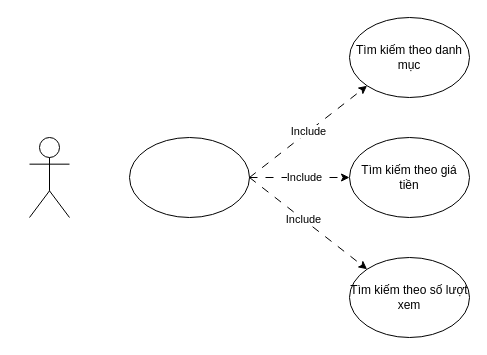
The diagram is 487 pixels wide and 355 high, and some of its shapes have lost their labels. The shapes that lost their labels are listed below. From the top down, each one's box as (x1, y1, x2, y2) in pixels, then its label:
(28, 136, 70, 218): Khách hàng
(128, 136, 250, 218): Tìm kiếm sản phẩm
